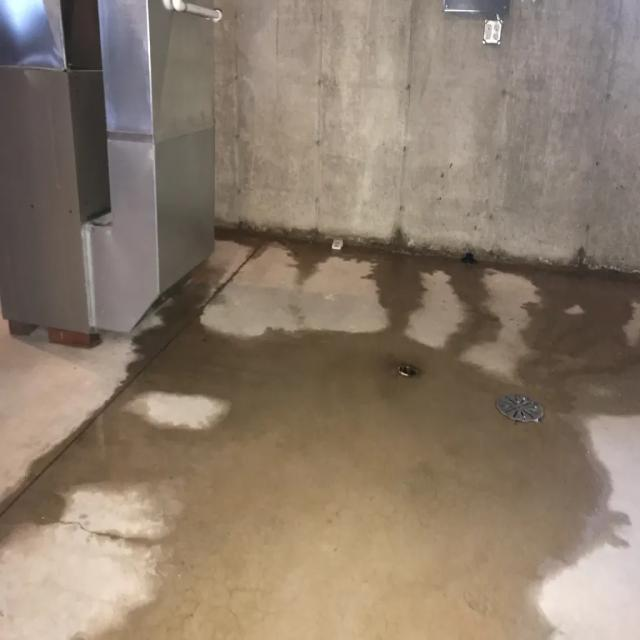water accumulation: (7, 244, 634, 635)
